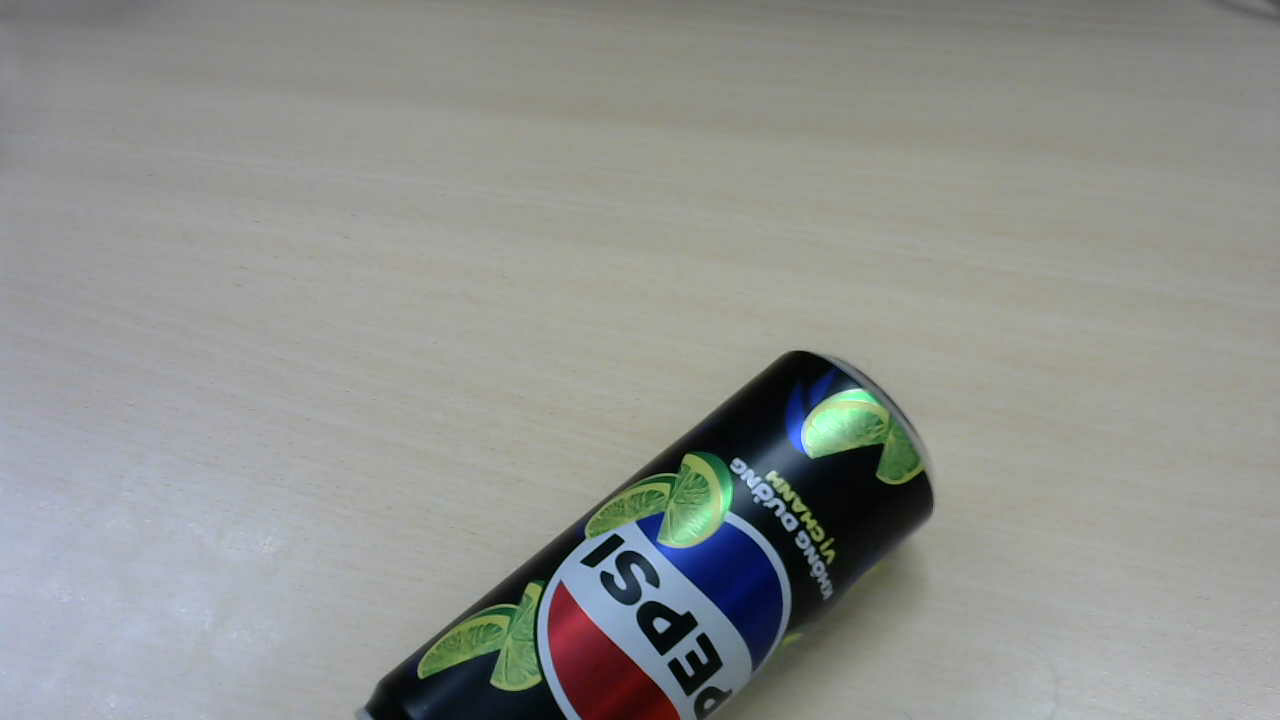Pepsi: (388, 358, 950, 700)
